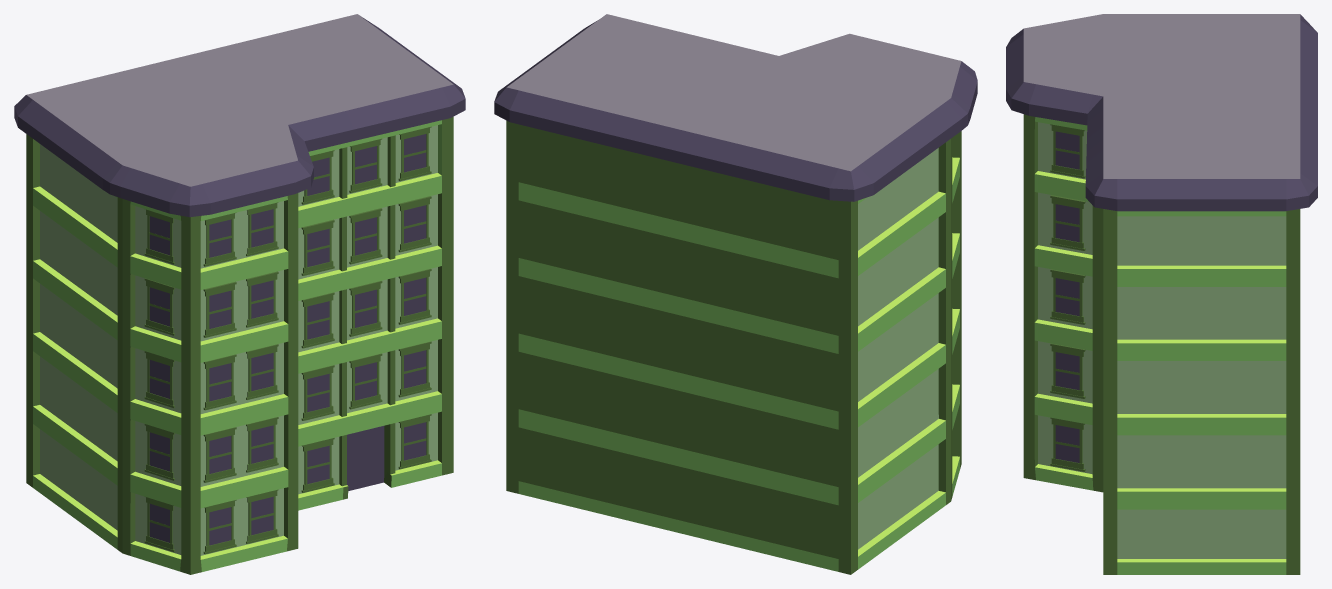
The model's file is building 3 - green.fbx.
3 renders of one model, left to right at view 1: azimuth 30°, elevation 25°; view 2: azimuth 150°, elevation 25°; view 3: azimuth 270°, elevation 25°, orthographic. The views are drawn at different scales.
Parts seen in each view (by area): view 1: pCube2, pasted__pCube14 (×29); view 2: pCube2; view 3: pCube2, pasted__pCube14 (×5).
Boxes of the visible parts, left/top/right/bottom form: pCube2: left=14, top=14, right=465, bottom=574; pasted__pCube14 (×29): left=149, top=134, right=426, bottom=545; pCube2: left=494, top=14, right=977, bottom=574; pCube2: left=1006, top=14, right=1317, bottom=574; pasted__pCube14 (×5): left=1055, top=131, right=1079, bottom=462.
Size of the model in its own units: 21.65 by 22.23 by 15.86.
